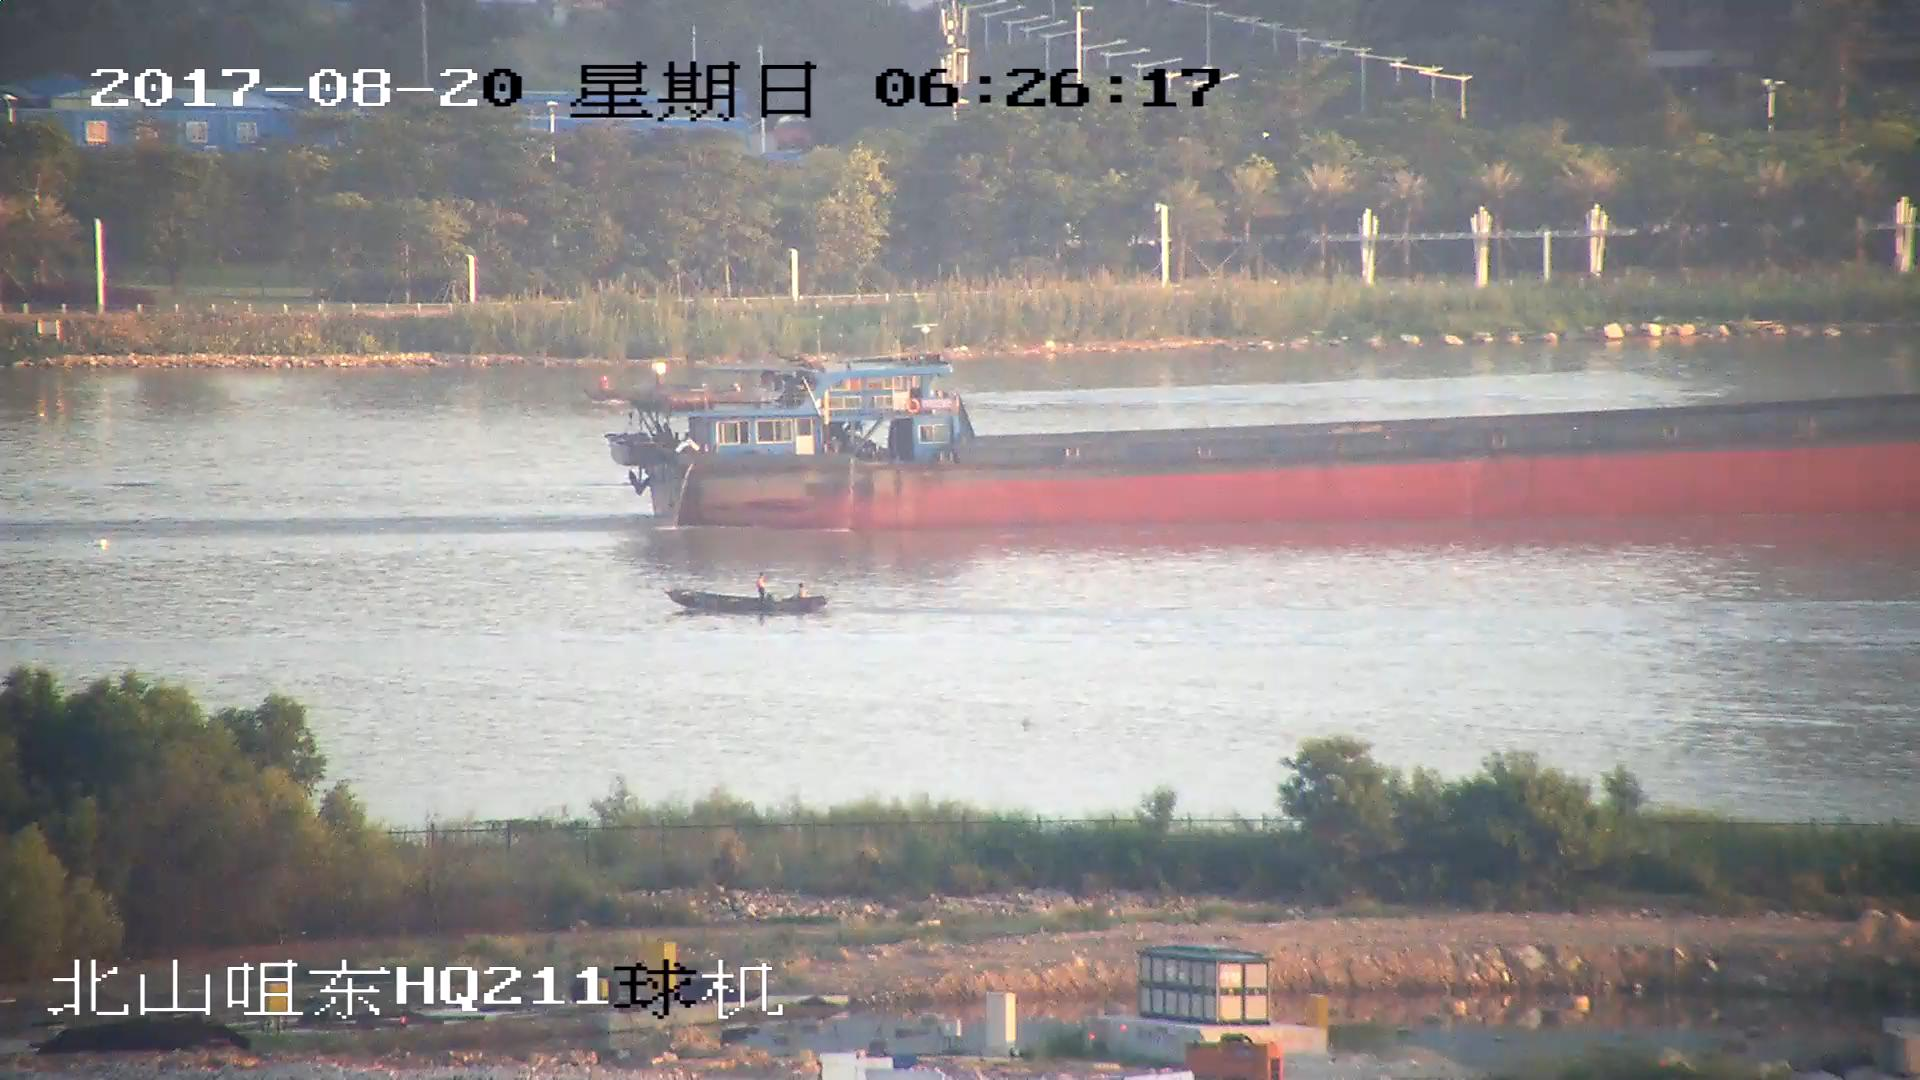bulk cargo carrier: (603, 347, 1920, 529)
fishing boat: (665, 567, 828, 621)
